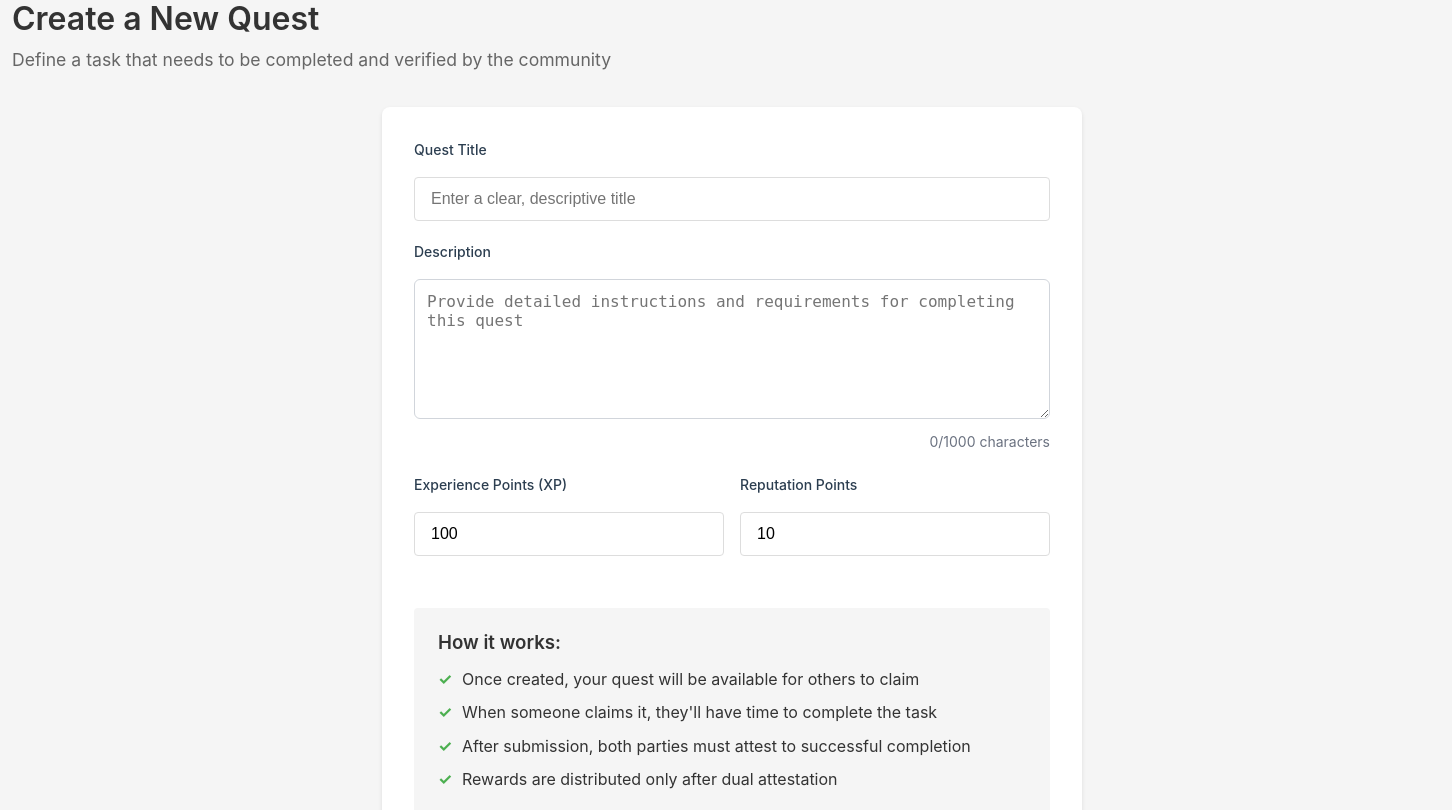
CreateQuest - Critical User Flow › validates minimum XP requirement
The image size is (1452, 810).
// Fill form with invalid XP
Type "Test Quest Title" into the field labelled "Quest Title" at (732, 199), box [414,177,1050,221]
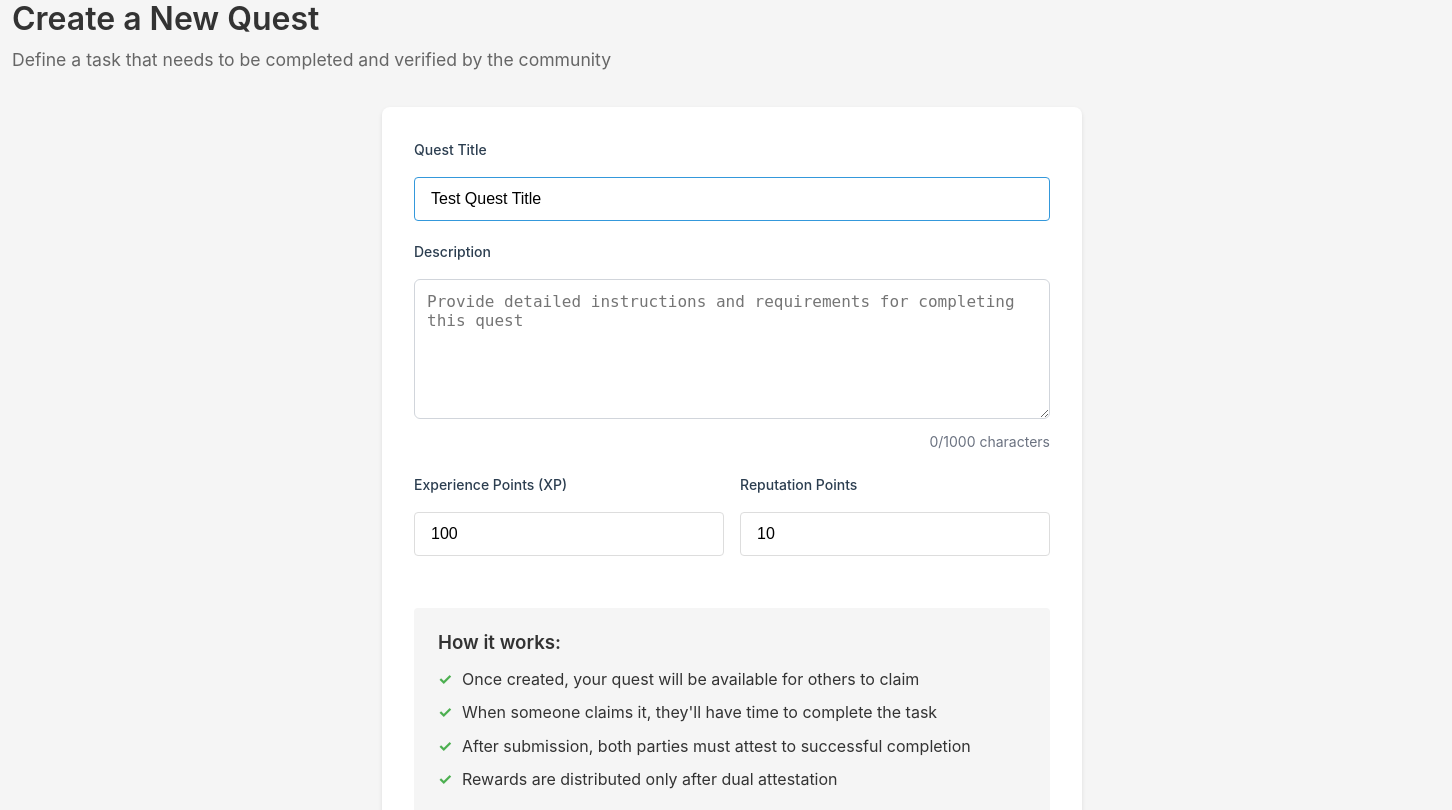
Type "This is a test quest description that meets minimum length requirements." into the text box labelled "Description" at (732, 349), box [414,279,1050,419]
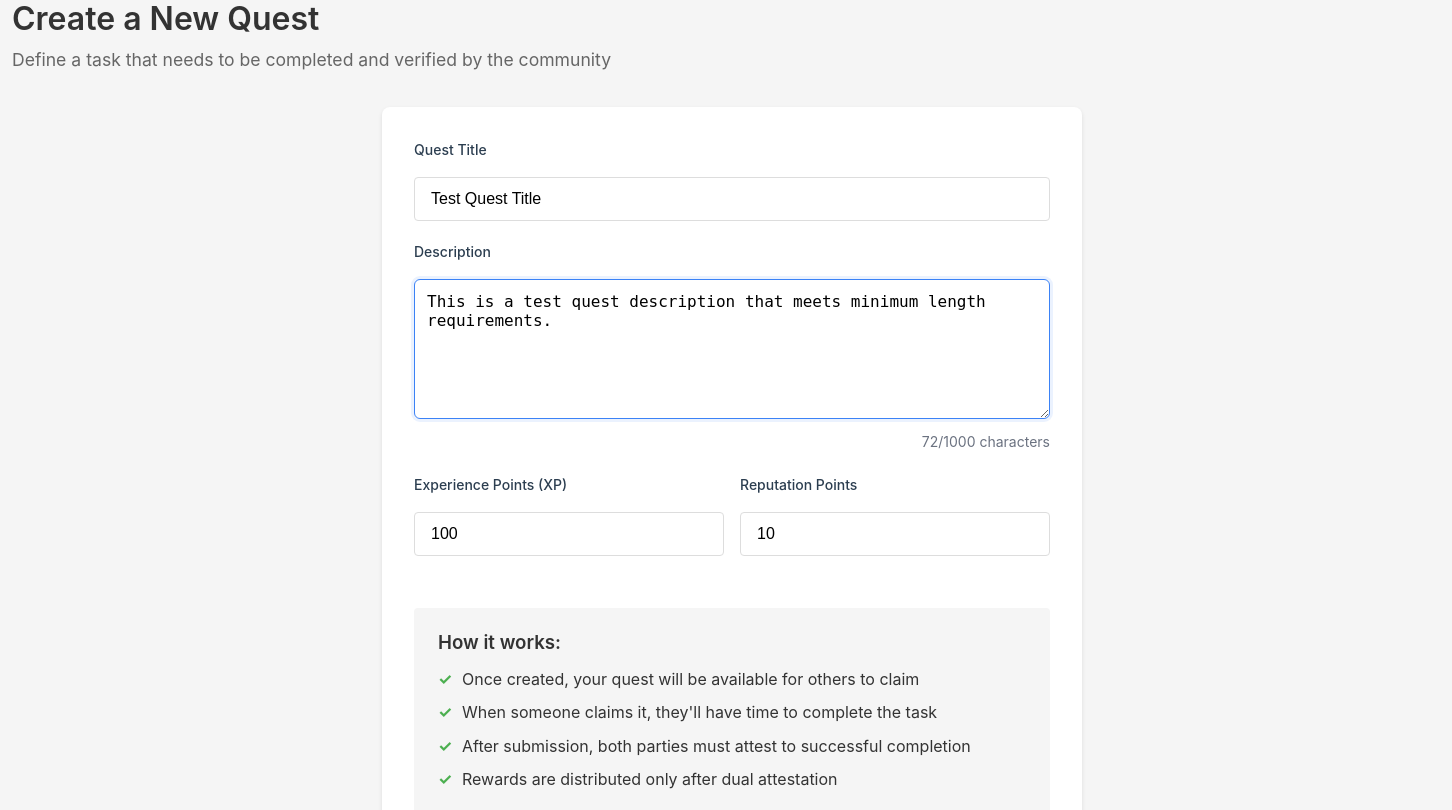
Replace the text in the number field labelled "Experience Points (XP)" with "5" at (569, 534), box [414,512,724,556]
(page scrolled)
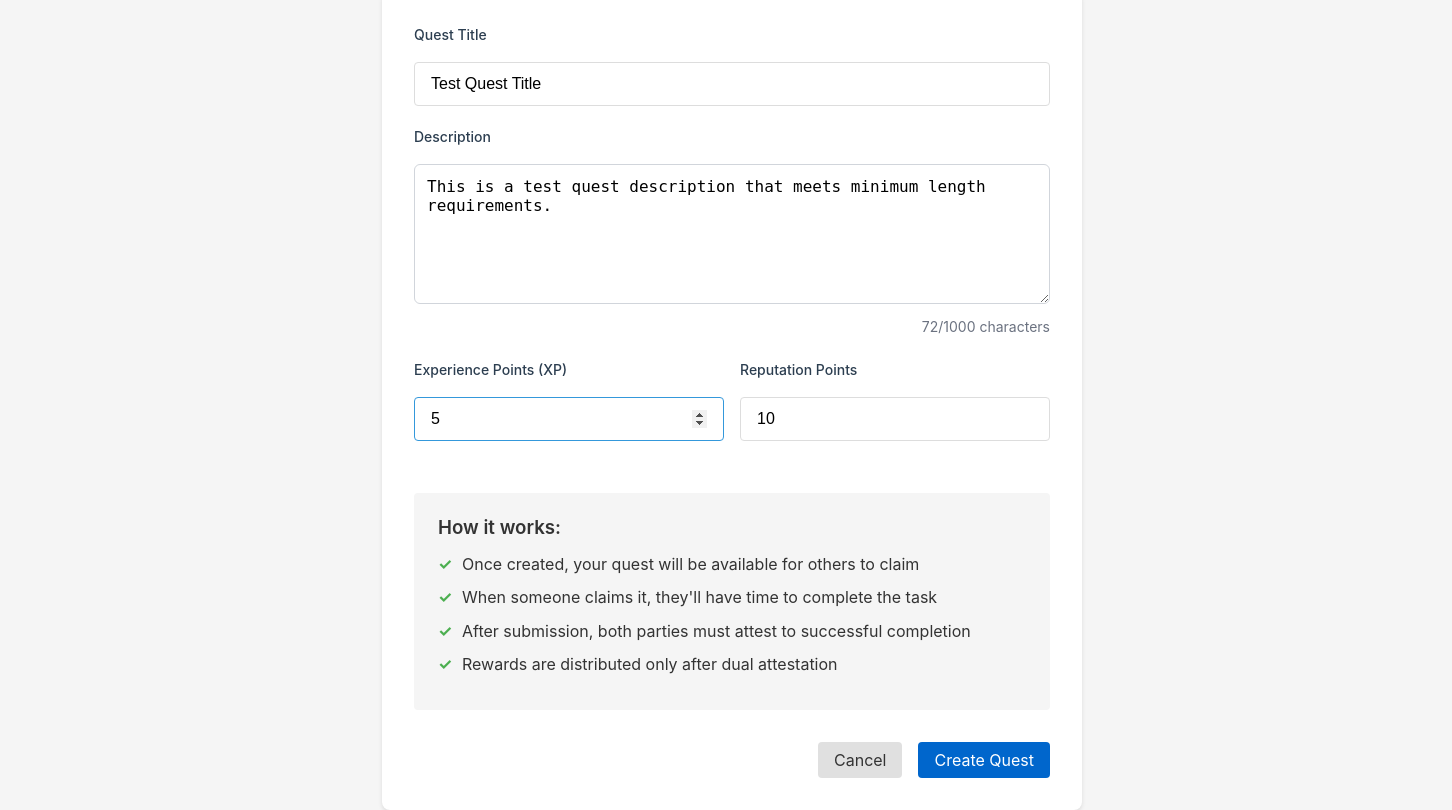
Click the button "Create Quest" at (984, 760), box [918,742,1050,778]
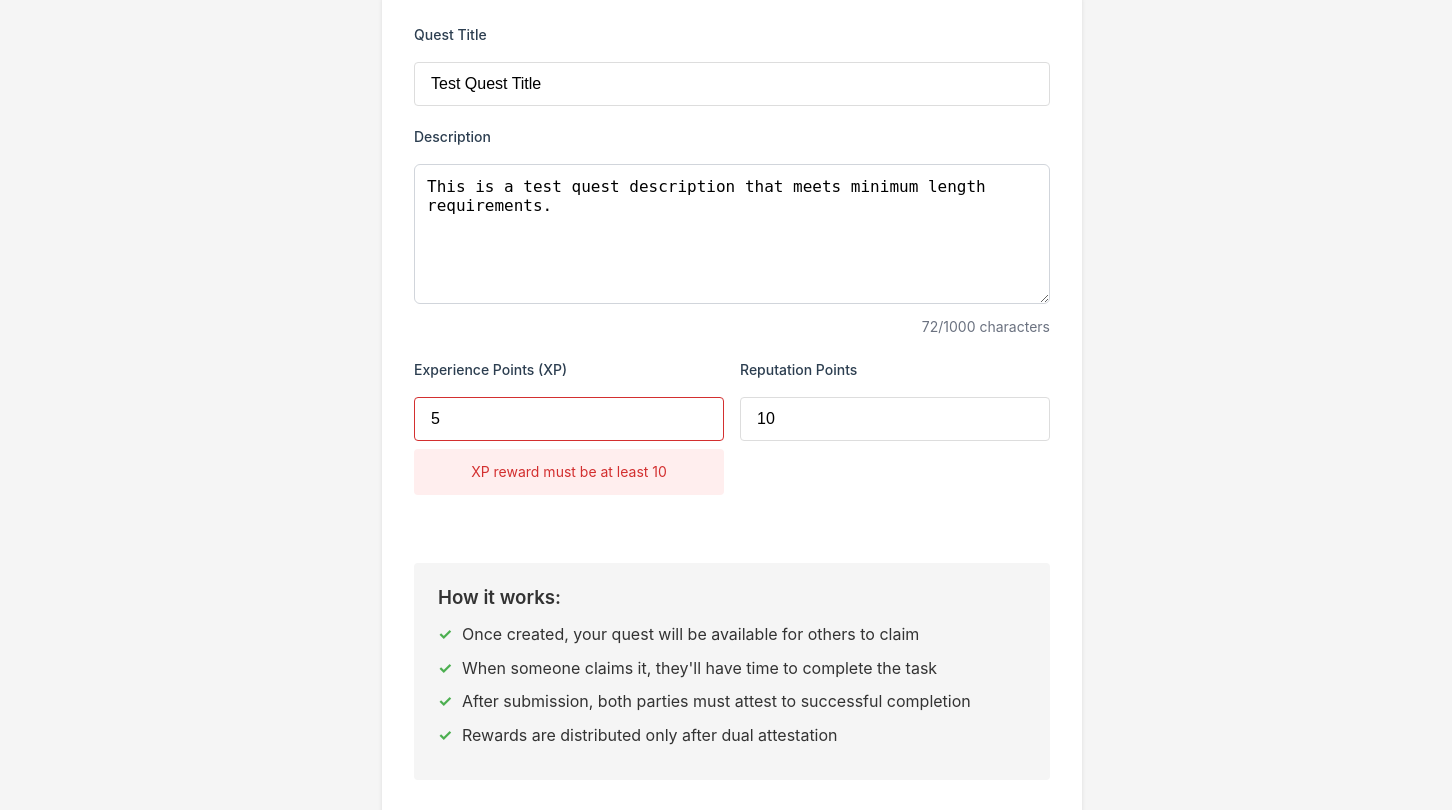
Expected: the text "XP reward must be at least 10" is shown, [414,449,724,496]
